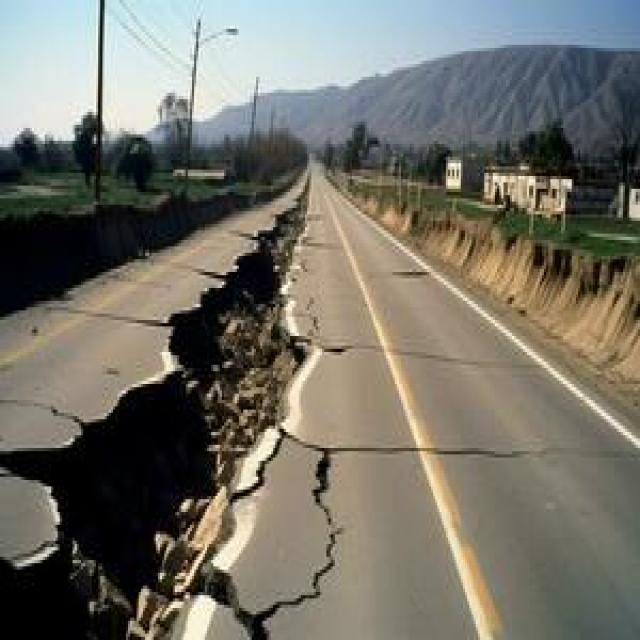road collapse: (0, 136, 472, 640)
